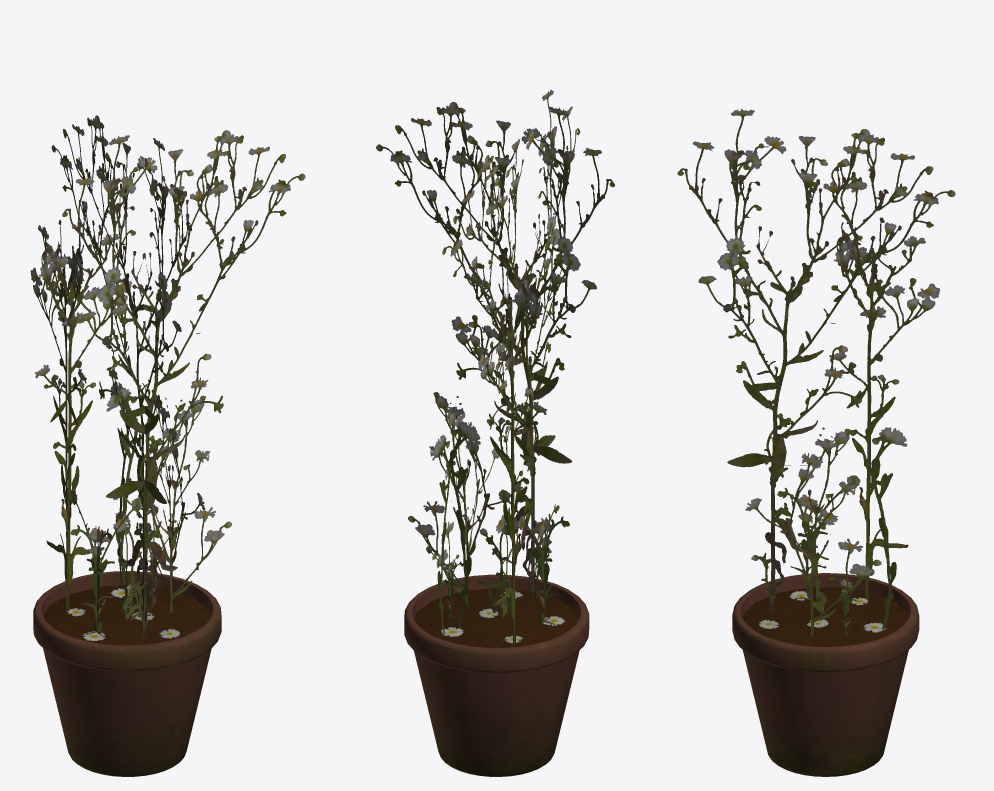
Rendered from daisy_flower.glb.
3 renders of one model, left to right at view 1: azimuth 30°, elevation 25°; view 2: azimuth 150°, elevation 25°; view 3: azimuth 270°, elevation 25°, orthographic.
Visible parts, largest first — view 1: Daisy; view 2: Daisy; view 3: Daisy.
Boxes of the visible parts, x1,y1,x2,y2 form: Daisy: [30, 115, 305, 776]; Daisy: [376, 89, 614, 776]; Daisy: [677, 108, 955, 776].
Bounding box in the file's own units: 0.4421 × 1.05 × 0.4421.
Materials: 1 (1 with a texture image).
